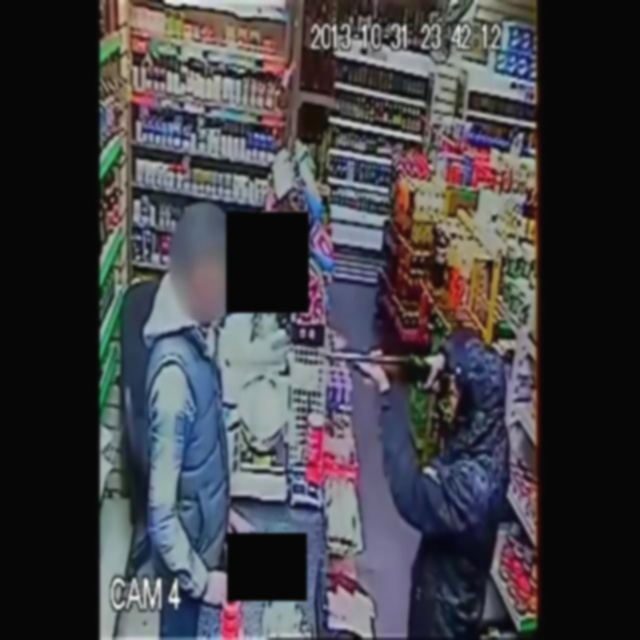gun: (308, 340, 450, 380)
